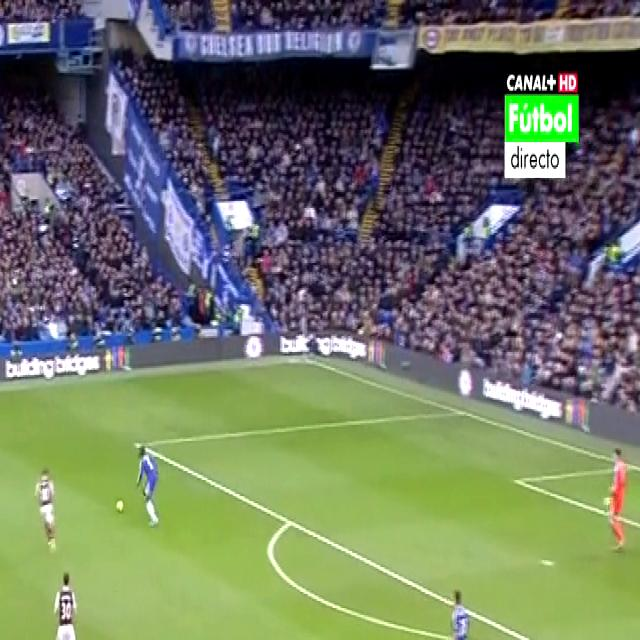ball: (112, 486, 125, 516)
goalkeeper: (603, 436, 632, 556)
soccer-player: (44, 558, 87, 640), (134, 431, 167, 533), (32, 452, 64, 556), (438, 572, 477, 640)
